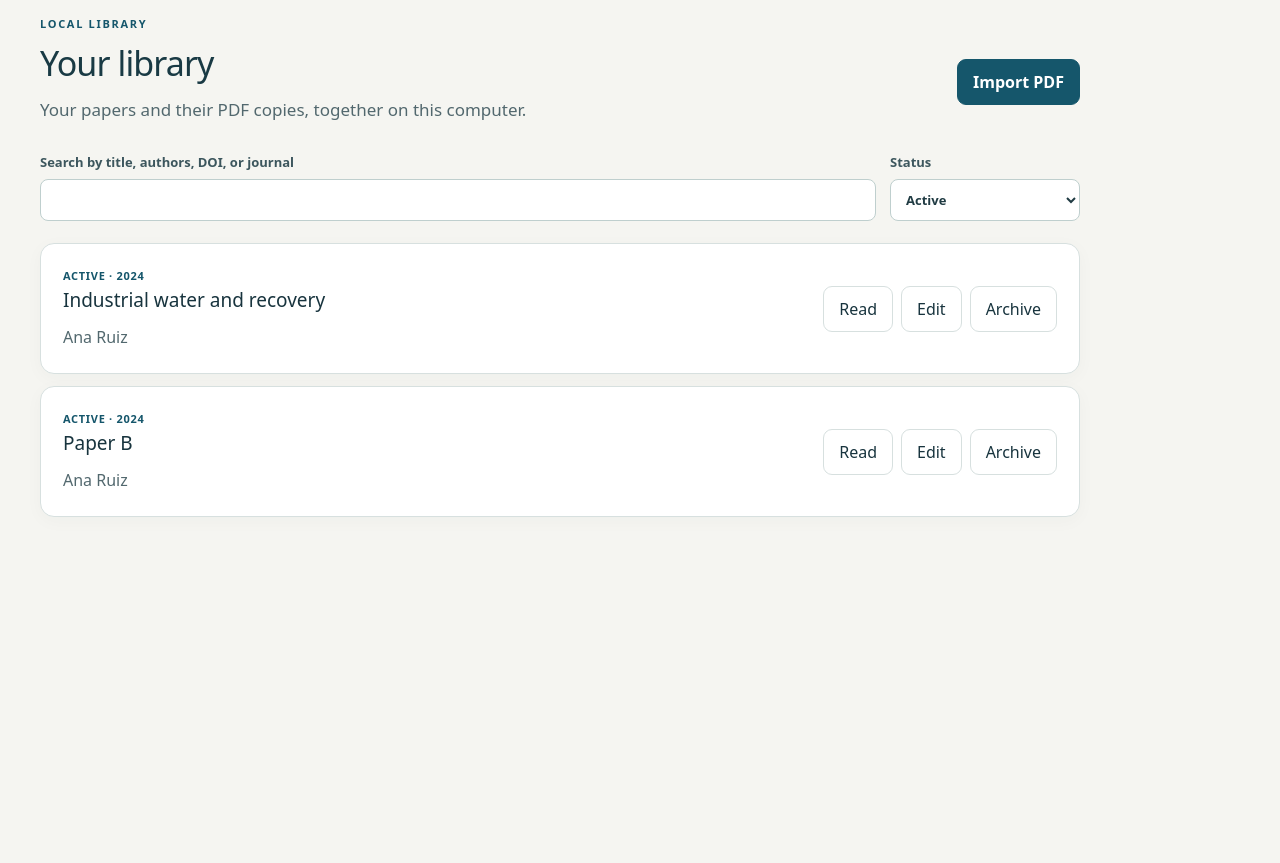
Scenario: late_metadata_save_does_not_reselect_a_paper_the_user_left
The image size is (1280, 863).
Click the button "Edit" in the row of "Industrial water and recovery" at (931, 309), box x1=901 y1=286 x2=962 y2=332
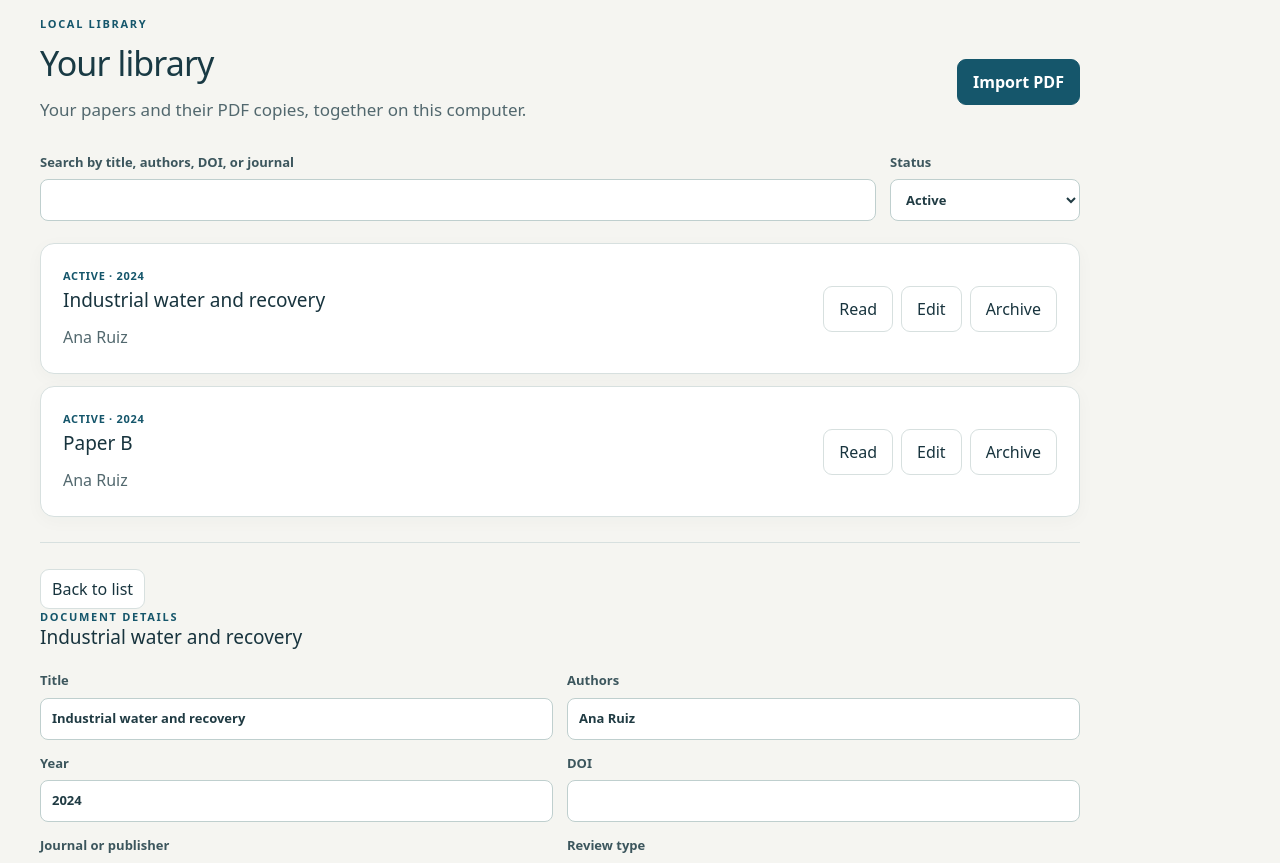
Replace the text in the field labelled "Title" with "Cambio A" at (296, 719), box x1=40 y1=698 x2=553 y2=740
(page scrolled)
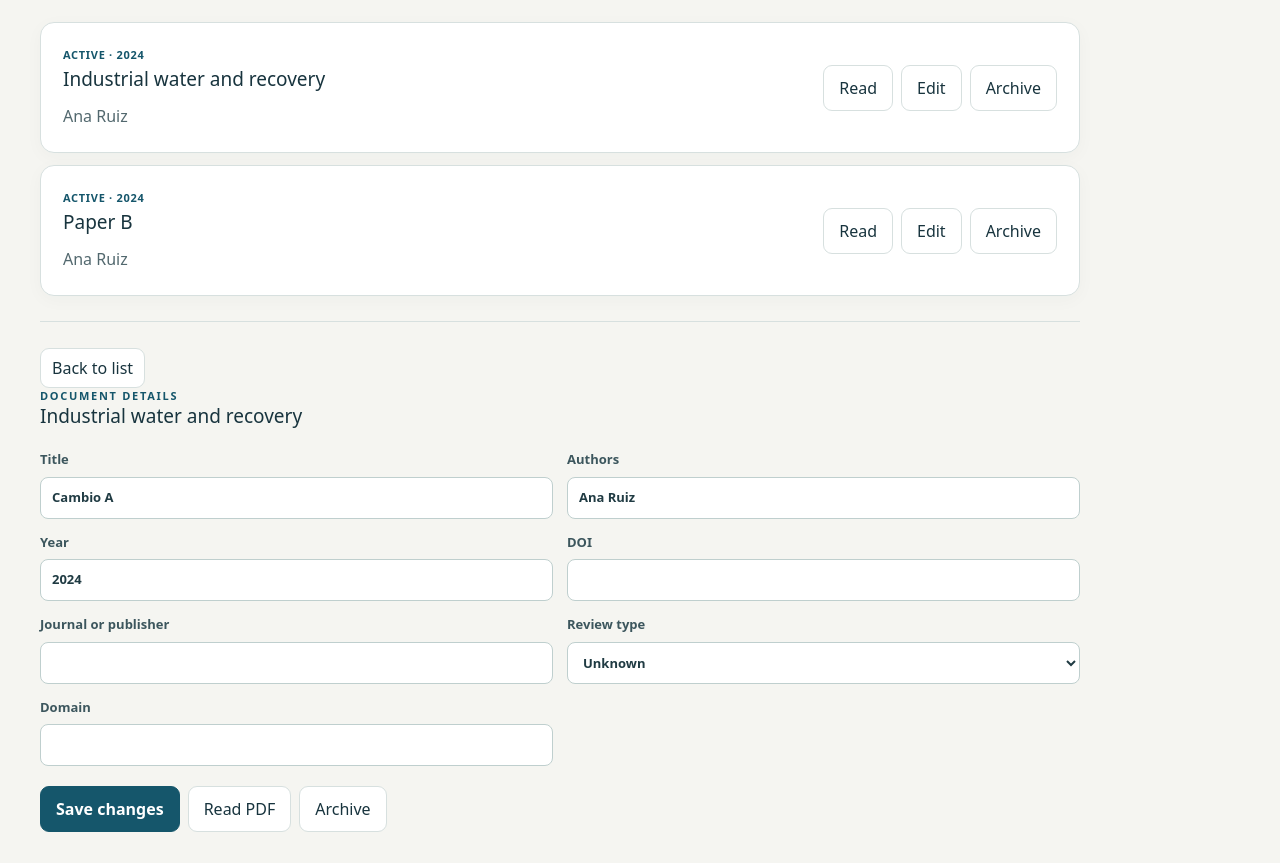
Click the button "Save changes" at (110, 809), box x1=40 y1=786 x2=180 y2=832
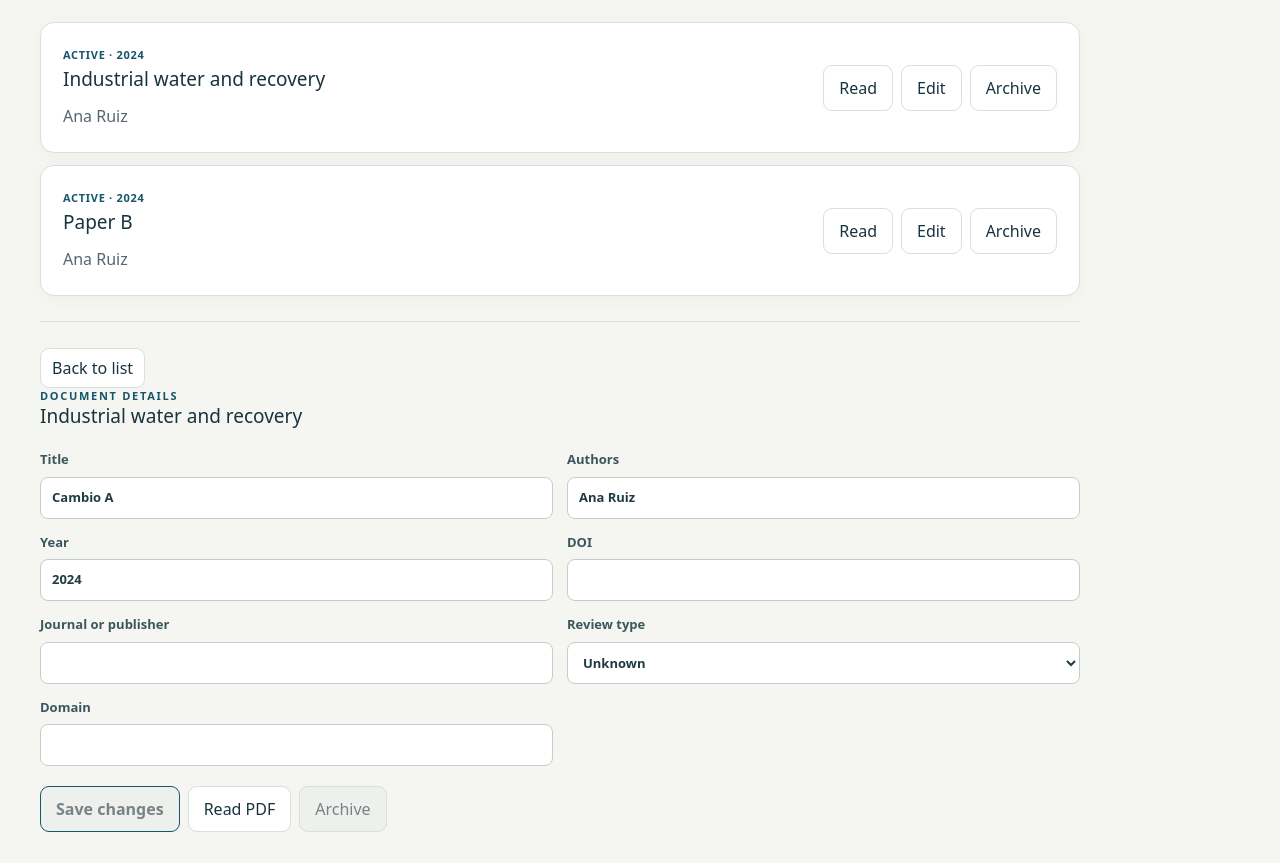
Click the button "Edit" in the row of "Paper B" at (931, 231), box x1=901 y1=208 x2=962 y2=254
(page scrolled)
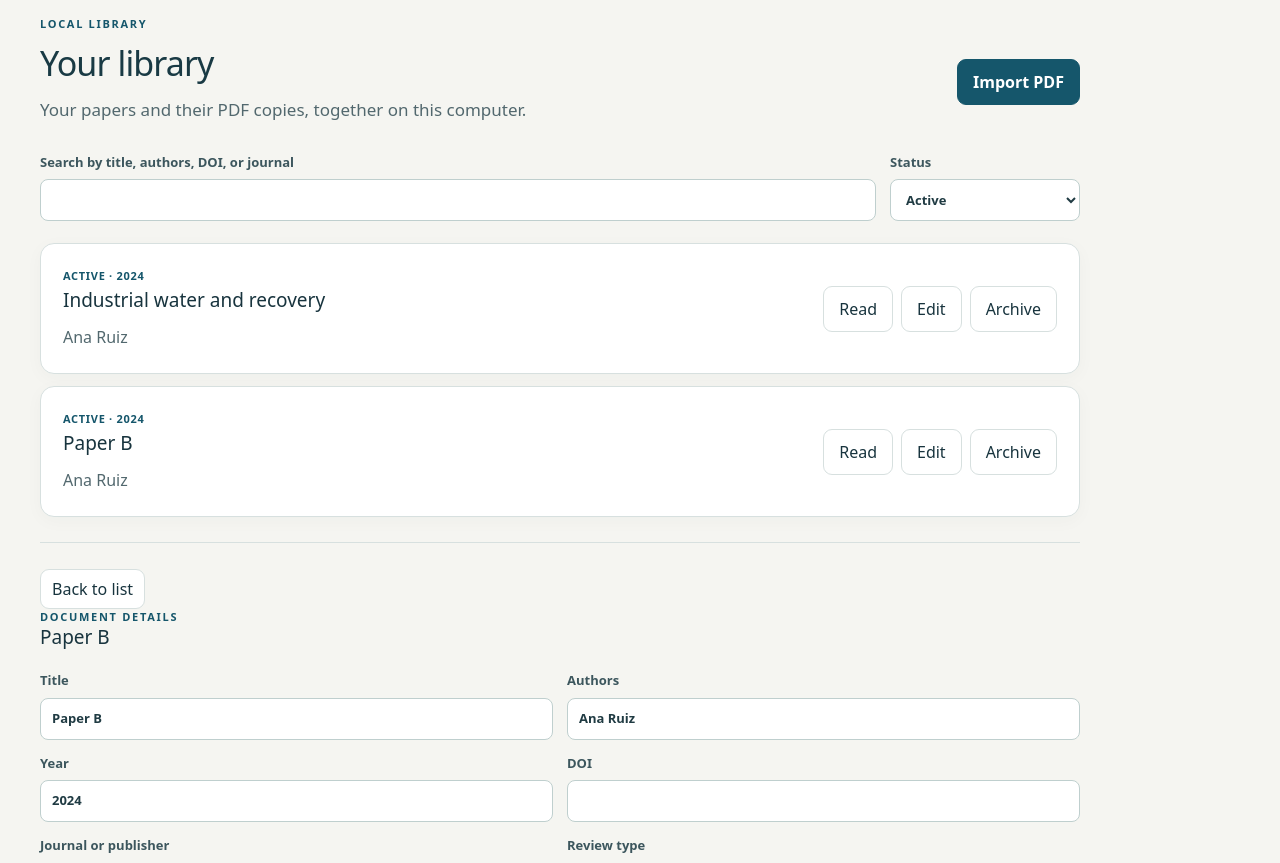
Expected: the number of headings "Paper B" is 2, x1=63 y1=431 x2=144 y2=457; x1=40 y1=624 x2=110 y2=650
Expected: the field labelled "Title" holds "Paper B", x1=40 y1=698 x2=553 y2=740
